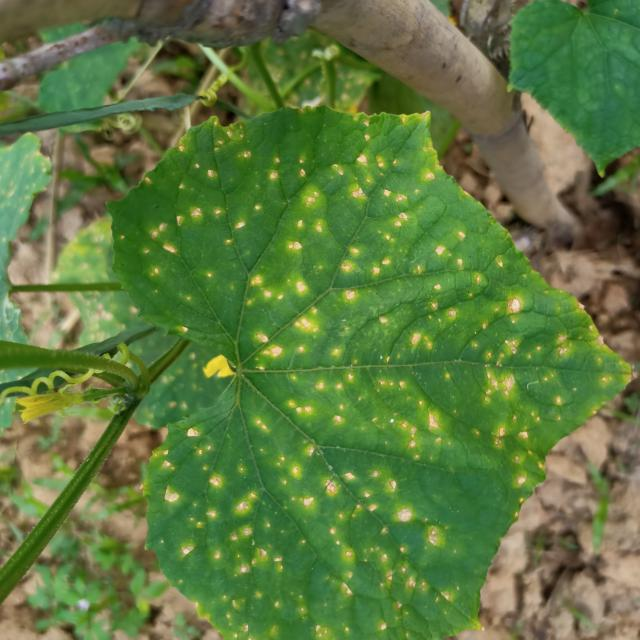disease_cucumber: (138, 117, 578, 640)
